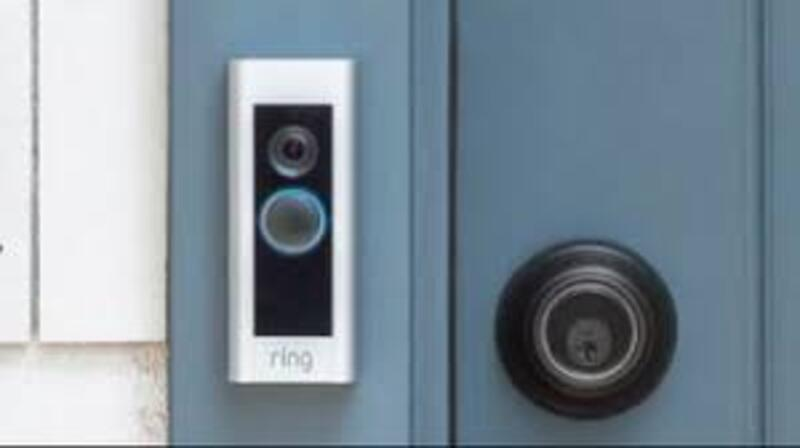doorbell: (212, 44, 376, 394)
